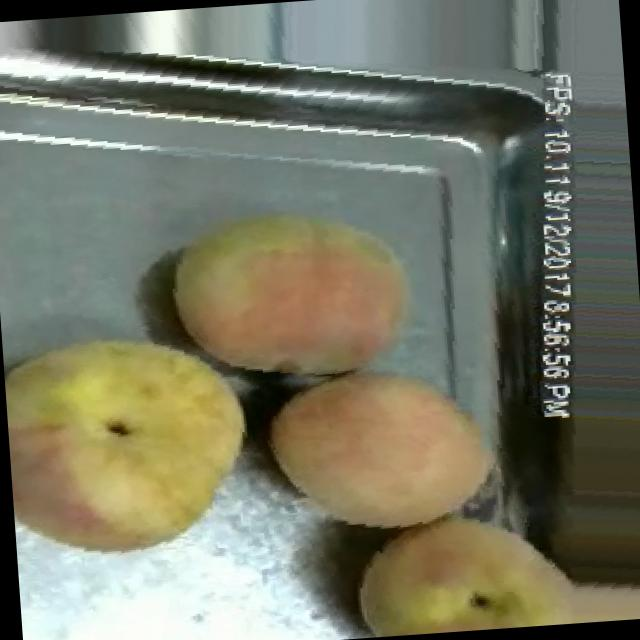Fruit: (0, 302, 275, 579), (147, 181, 430, 395), (254, 353, 509, 552), (333, 490, 640, 639)
